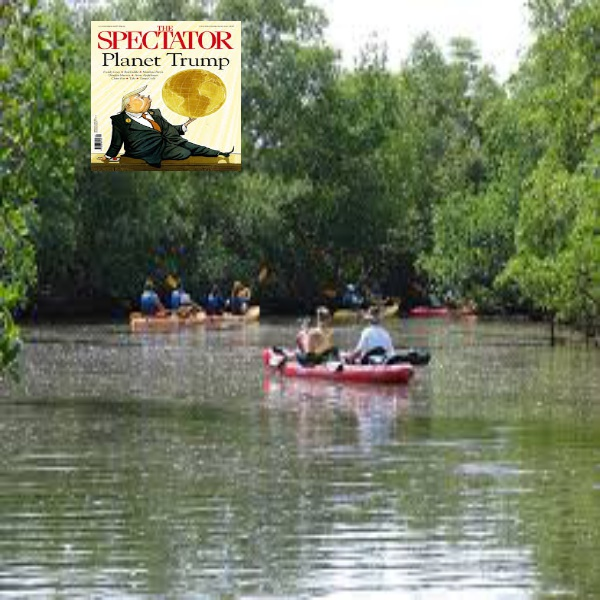time_cover: (83, 14, 260, 168)
